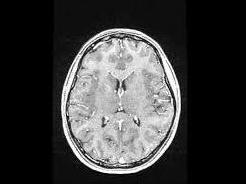Normal_Brain: (22, 3, 232, 181)
